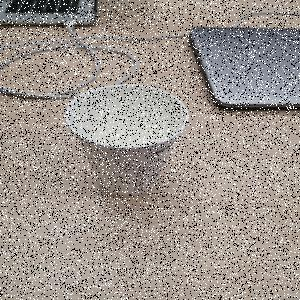Cup: (65, 85, 191, 199)
